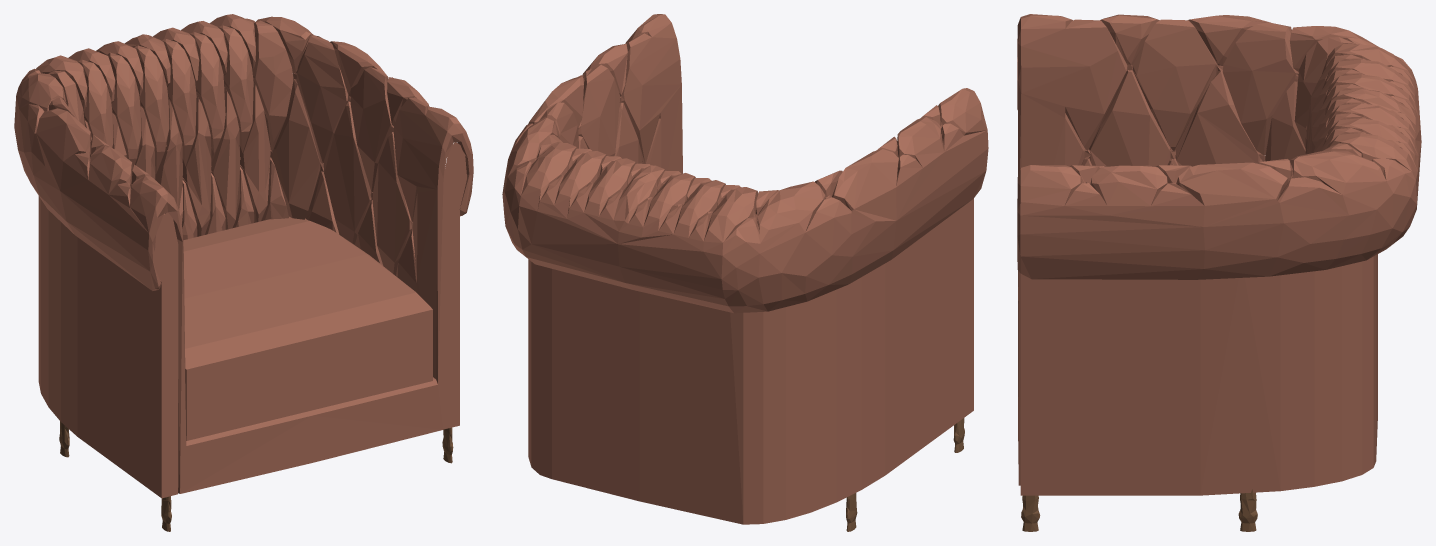
The model's file is sh-bs0-winchester-sofa.glb.
3 renders of one model, left to right at view 1: azimuth 30°, elevation 25°; view 2: azimuth 150°, elevation 25°; view 3: azimuth 270°, elevation 25°, orthographic. The views are drawn at different scales.
Visible parts, largest first — view 1: Plane.001_Plane, Circle.006_Circle.007; view 2: Plane.001_Plane, Circle.006_Circle.007; view 3: Plane.001_Plane, Circle.006_Circle.007.
Part boxes in pixels (x1,y1,x2,y2): Plane.001_Plane: [14, 14, 473, 498]; Circle.006_Circle.007: [59, 421, 453, 531]; Plane.001_Plane: [502, 14, 988, 524]; Circle.006_Circle.007: [846, 418, 964, 531]; Plane.001_Plane: [1017, 14, 1421, 495]; Circle.006_Circle.007: [1021, 489, 1257, 531].
Size of the model in its own units: 0.9978 by 0.9995 by 1.
